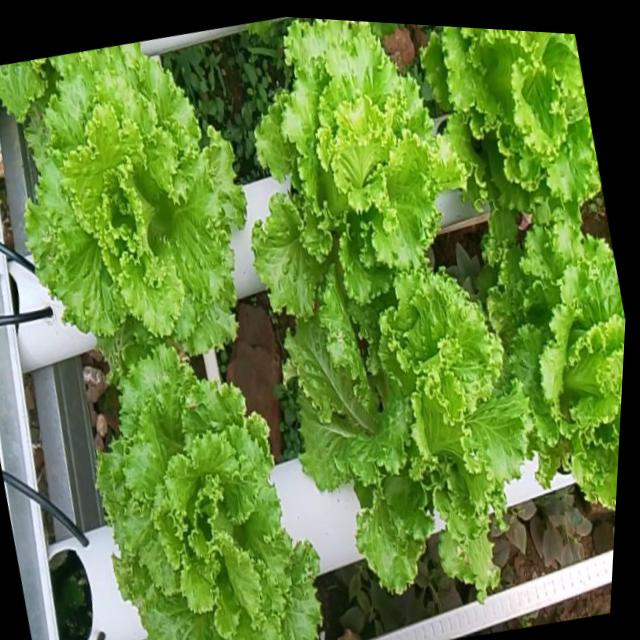Mature: (0, 43, 243, 381), (282, 270, 527, 598), (249, 21, 460, 349), (93, 351, 319, 640), (487, 234, 625, 512), (420, 26, 601, 229)
